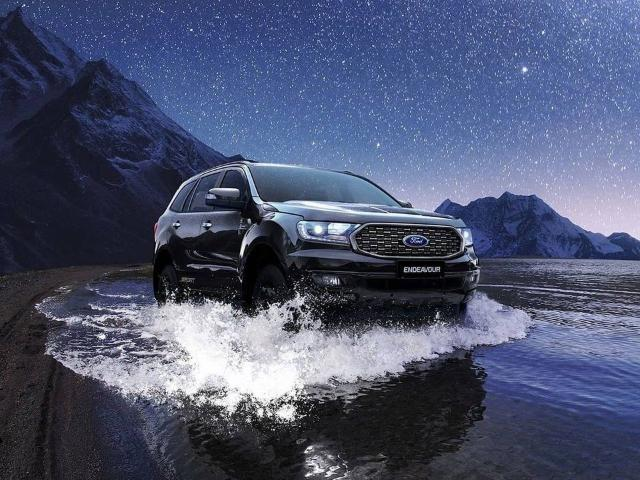ford: (151, 160, 481, 334)
